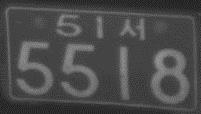1: (108, 45, 143, 101), (89, 15, 112, 39)
5: (59, 43, 100, 97), (15, 40, 53, 96), (55, 13, 82, 38)
8: (150, 47, 190, 105)
서: (119, 16, 146, 40)
